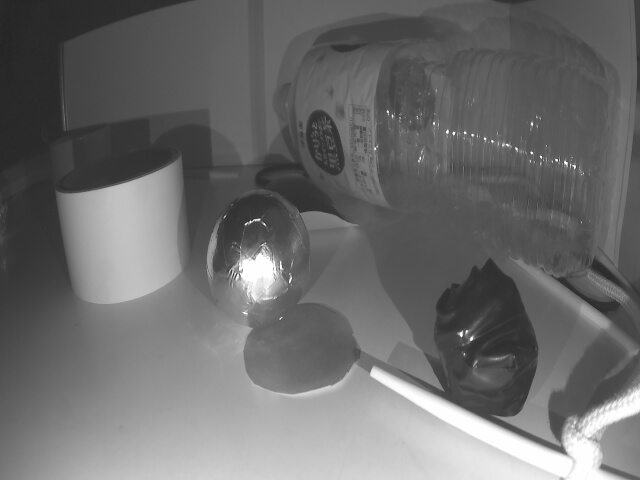Dead: (437, 259, 535, 416)
Live: (205, 194, 311, 323)
